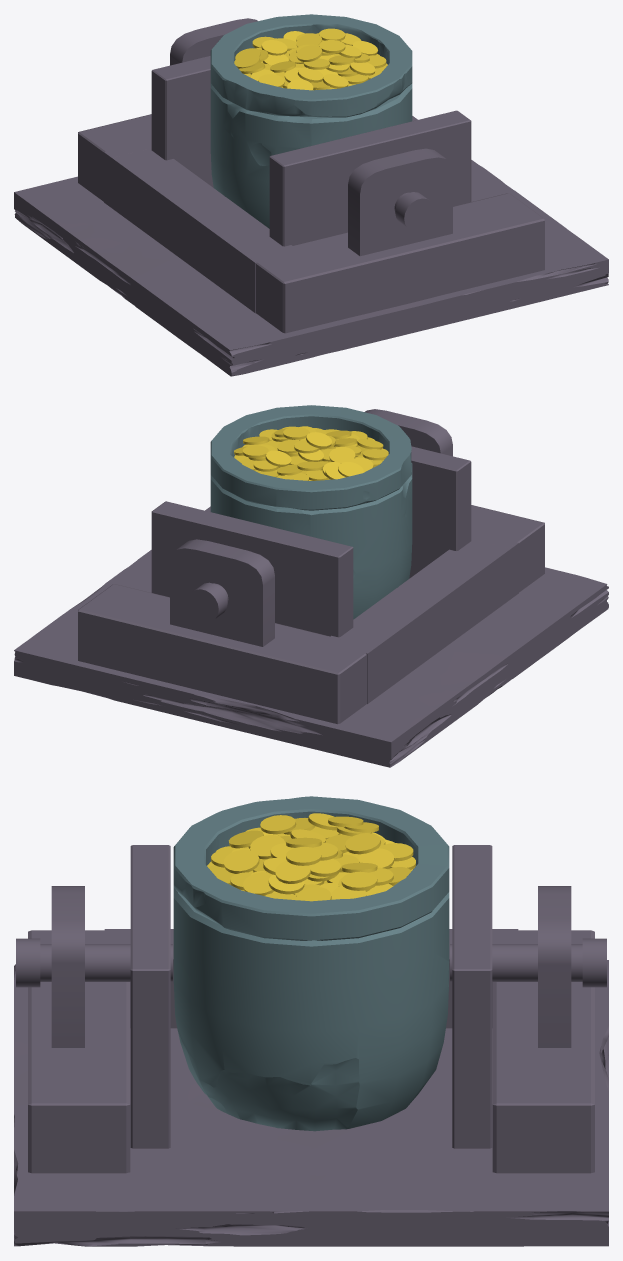
Rendered from avaricebuilding1.FBX.
The picture shows the model from 3 angles, top to bottom: view 1: azimuth 30°, elevation 25°; view 2: azimuth 150°, elevation 25°; view 3: azimuth 270°, elevation 25°; orthographic projection. The views are drawn at different scales.
Visible parts, largest first — view 1: Box001, Shape005, Shape001, Shape004, group1, Cylinder001, Shape003; view 2: Box001, Shape003, Shape001, Shape004, group1, Cylinder001, Shape005; view 3: Box001, Cylinder001, Shape005, Shape003, Shape001, group1, Shape004, Cylinder043, Cylinder074, Cylinder017.
Part boxes in pixels (<box>): Box001: <box>14,116,608,376</box>; Shape005: <box>250,148,544,333</box>; Shape001: <box>151,55,471,246</box>; Shape004: <box>104,148,292,313</box>; group1: <box>210,14,412,117</box>; Cylinder001: <box>210,83,412,228</box>; Shape003: <box>78,18,257,201</box>; Box001: <box>14,506,608,767</box>; Shape003: <box>78,539,373,724</box>; Shape001: <box>151,446,471,637</box>; Shape004: <box>330,539,518,703</box>; group1: <box>210,405,411,510</box>; Cylinder001: <box>210,463,412,619</box>; Shape005: <box>364,409,544,592</box>; Box001: <box>14,960,608,1246</box>; Cylinder001: <box>173,887,449,1131</box>; Shape005: <box>16,886,172,1173</box>; Shape003: <box>450,886,606,1173</box>; Shape001: <box>130,845,492,1148</box>; group1: <box>173,796,449,940</box>; Shape004: <box>104,929,518,1028</box>; Cylinder043: <box>223,849,259,873</box>; Cylinder074: <box>275,860,310,883</box>; Cylinder017: <box>345,833,380,854</box>.
Bounding box in the file's own units: 82.29 × 42.74 × 82.29.
